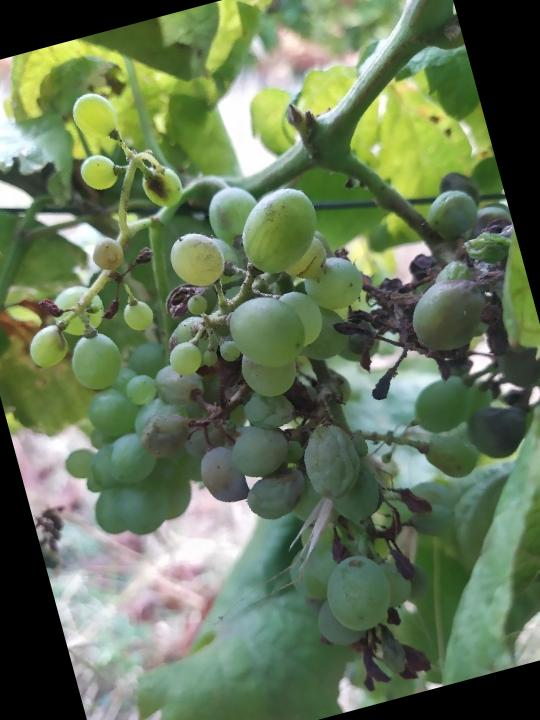grape: (11, 161, 476, 720)
